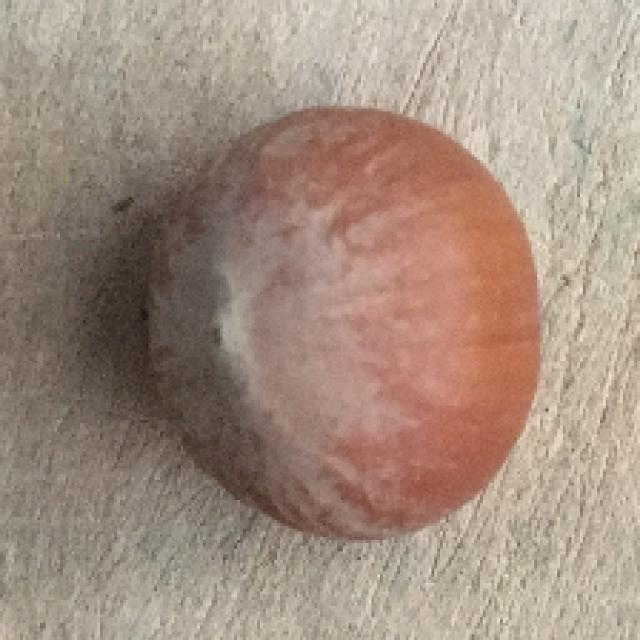qualityHazelnut: (130, 92, 551, 554)
